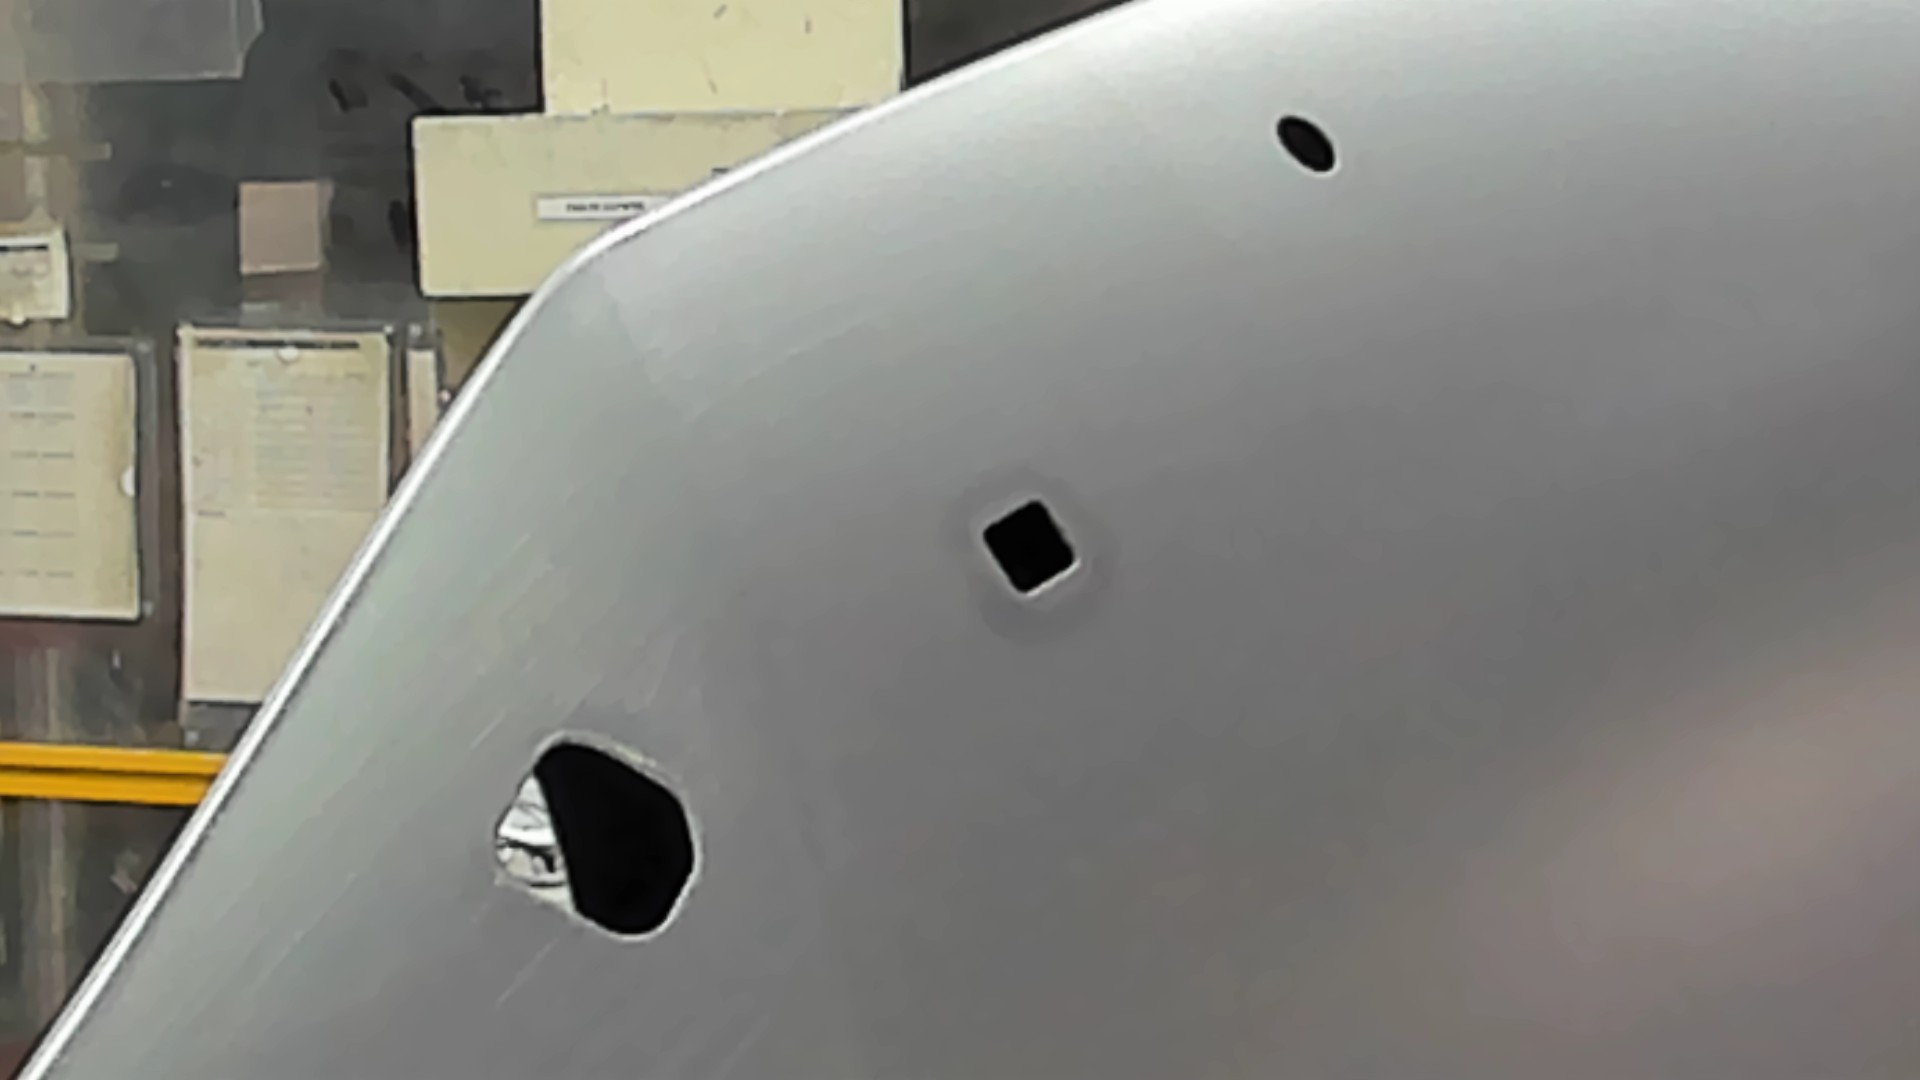chico: (1271, 108, 1338, 177)
grande: (487, 727, 705, 945)
mediano: (976, 495, 1088, 604)
